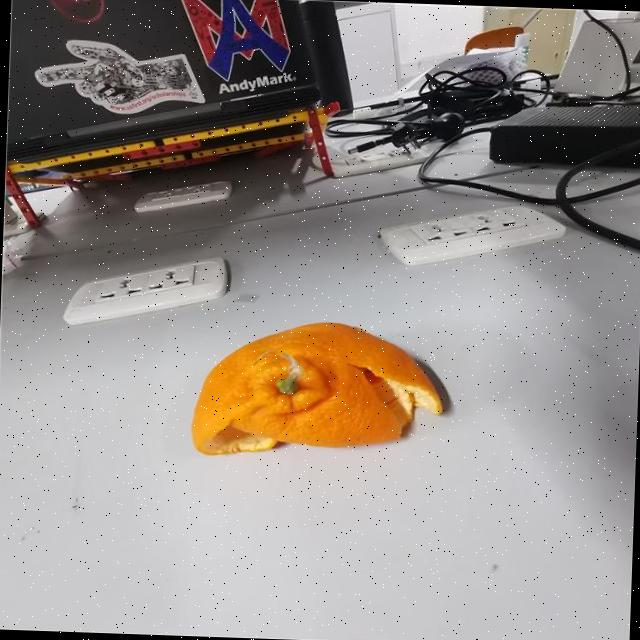orange-peel: (188, 314, 446, 464)
